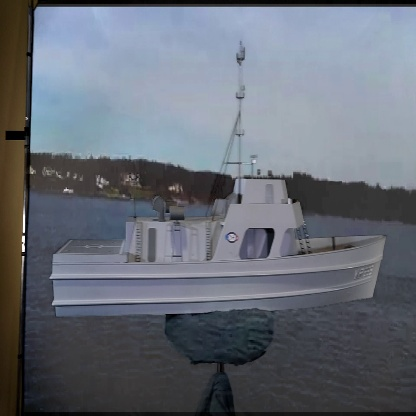YP689: (49, 35, 388, 319)
